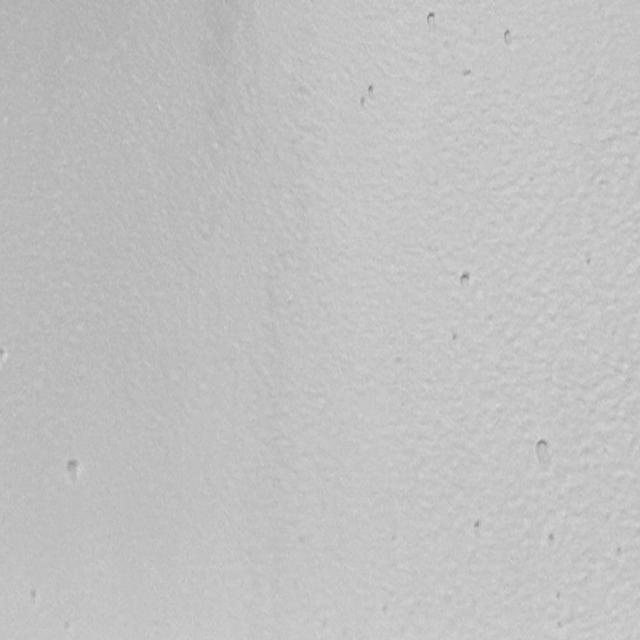pin holes: (532, 436, 554, 467), (63, 456, 85, 485), (454, 270, 476, 295), (359, 81, 380, 106), (499, 26, 519, 49), (424, 8, 442, 31), (26, 586, 43, 608), (472, 518, 488, 535), (545, 531, 560, 549), (0, 346, 11, 370), (365, 83, 380, 100), (462, 65, 477, 79)
